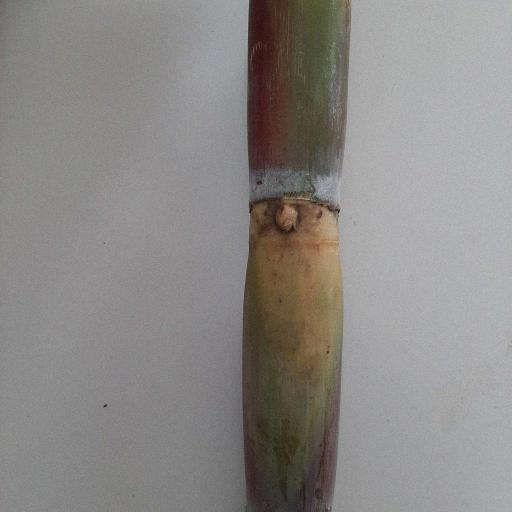Bud: (274, 201, 300, 235)
